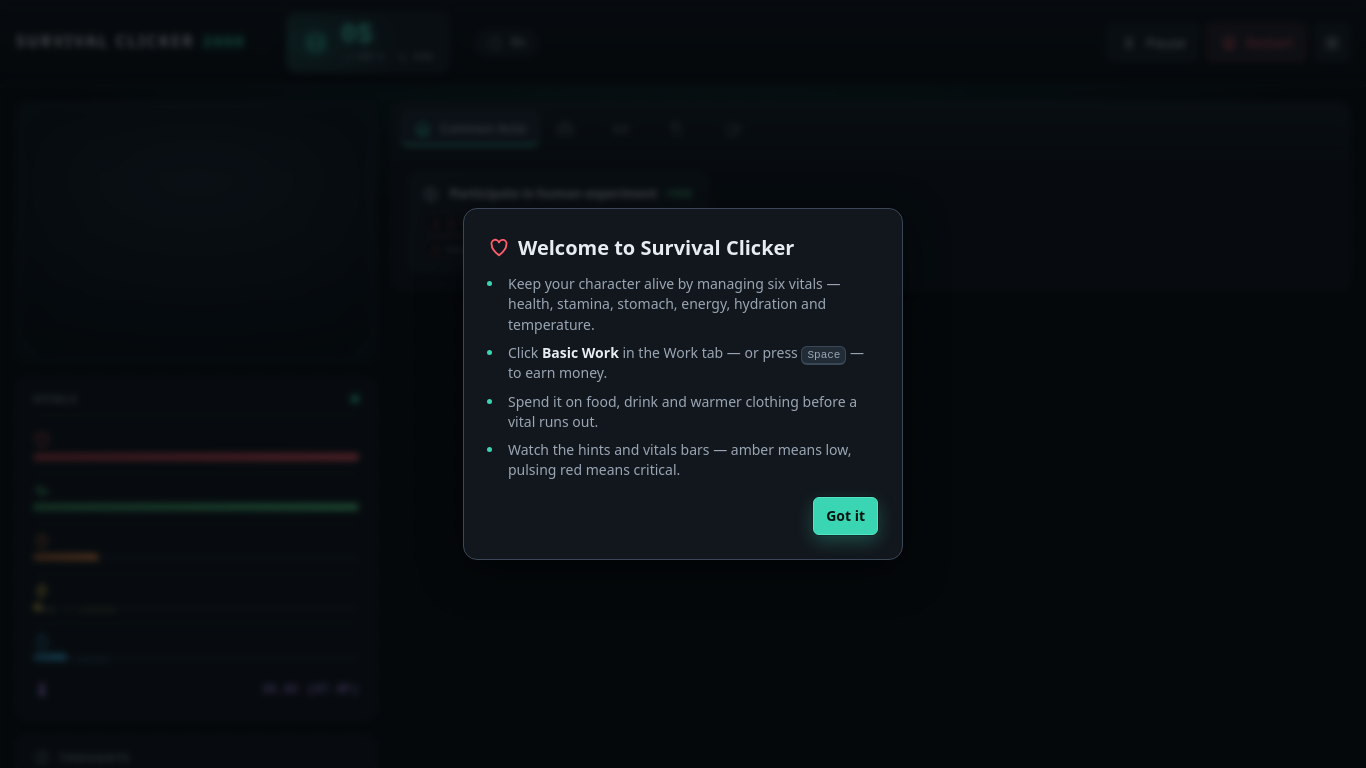
Test: shows the first-run welcome overlay on a fresh game and dismisses it for good
Expected: the heading "Welcome to Survival Clicker" is shown, x1=488 y1=234 x2=794 y2=261
Click the button "Got it": x=846, y=516 x1=813 y1=497 x2=878 y2=535
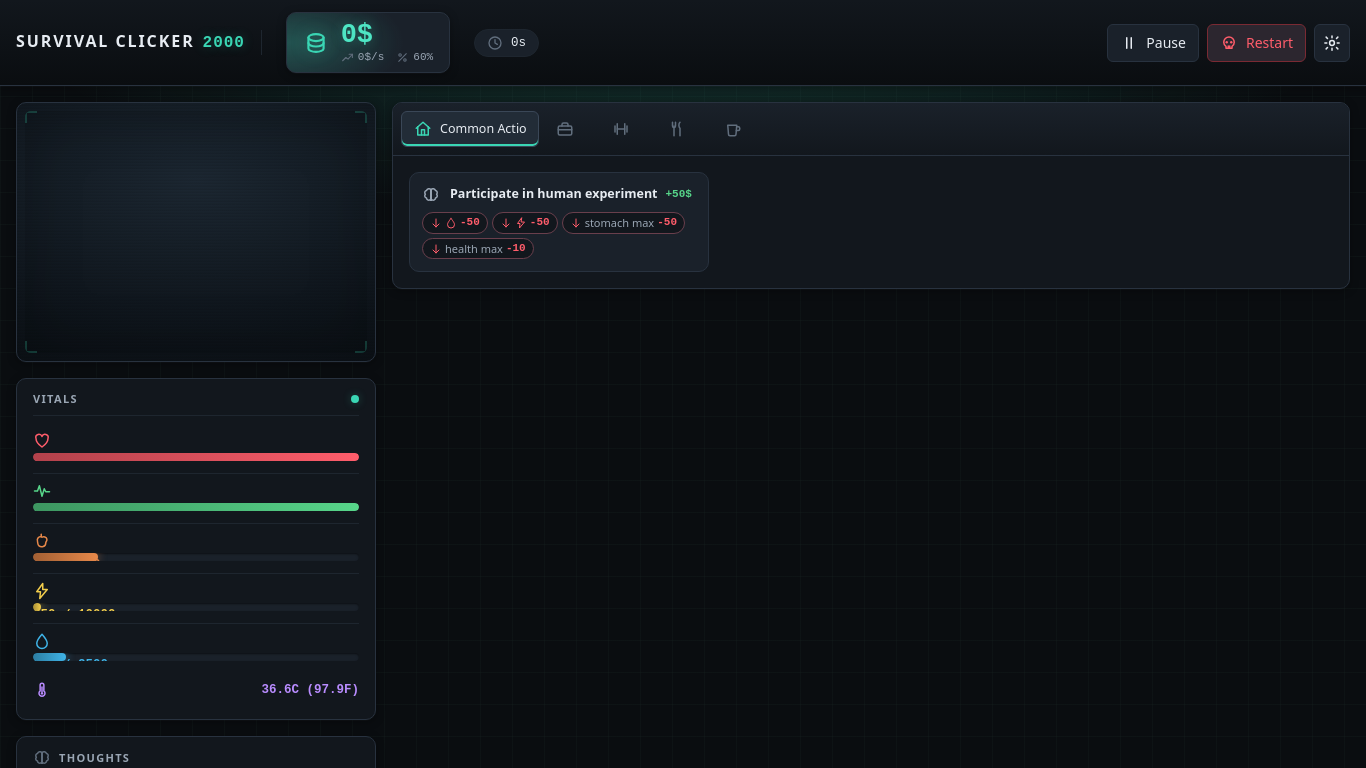
Now the heading "Welcome to Survival Clicker" is gone
